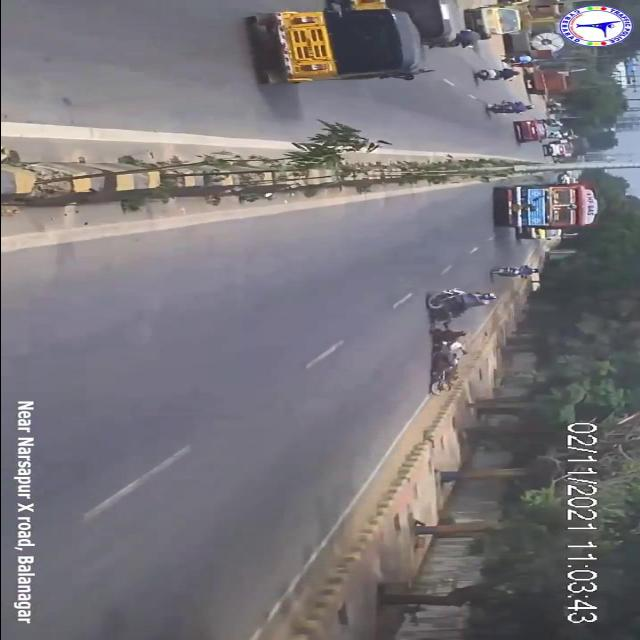accident: (412, 285, 516, 395)
non_accident: (238, 0, 496, 93), (492, 180, 608, 244), (527, 133, 597, 163)
